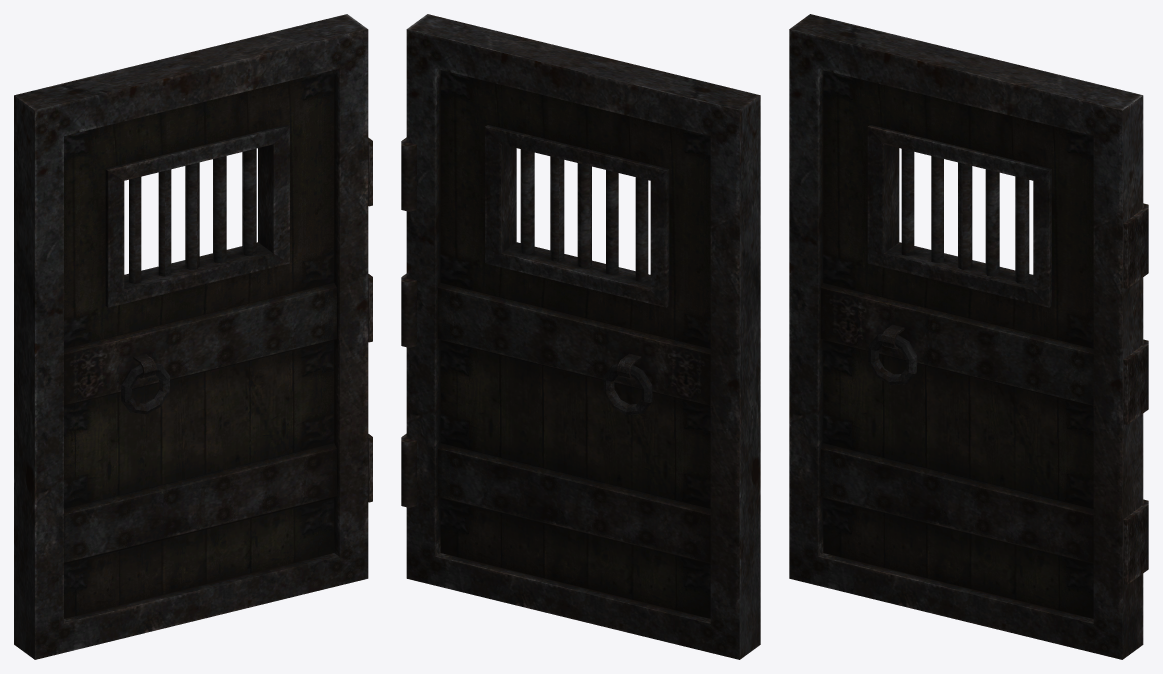
Rendered from prison.dae.
3 views of the same model, side by side, from view 1: azimuth 30°, elevation 25°; view 2: azimuth 150°, elevation 25°; view 3: azimuth 330°, elevation 25° (orthographic).
Visible parts, largest first — view 1: door, hinges; view 2: door, hinges; view 3: door, hinges.
Part boxes in pixels (bbox=[...]): door: bbox=[14, 14, 368, 659]; hinges: bbox=[368, 137, 372, 502]; door: bbox=[406, 14, 760, 659]; hinges: bbox=[401, 137, 416, 507]; door: bbox=[789, 14, 1143, 659]; hinges: bbox=[1123, 203, 1148, 584].
Bounding box in the file's own units: 1.77 × 0.3588 × 2.75.
